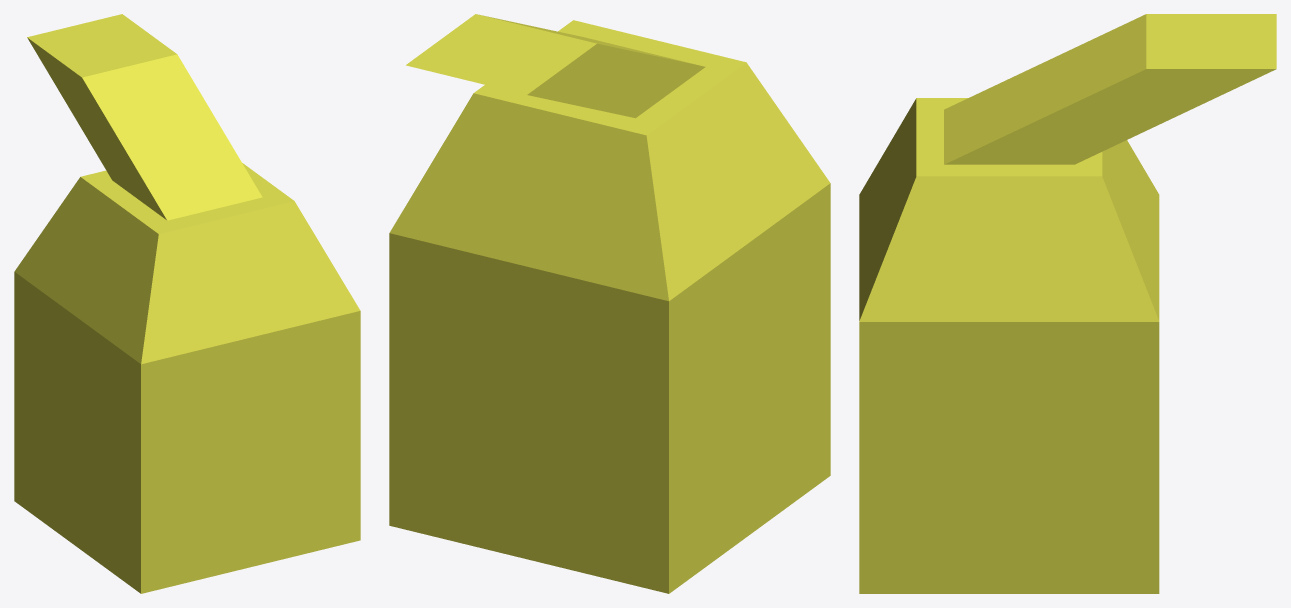
3 renders of one model, left to right at view 1: azimuth 30°, elevation 25°; view 2: azimuth 150°, elevation 25°; view 3: azimuth 270°, elevation 25°, orthographic. The views are drawn at different scales.
Parts seen in each view (by area): view 1: Cube; view 2: Cube; view 3: Cube.
Boxes of the visible parts, <box> form: Cube: <box>14,14,360,593</box>; Cube: <box>389,14,830,593</box>; Cube: <box>859,14,1276,593</box>.
Bounding box in the file's own units: 1.05 × 1.89 × 1.47.
